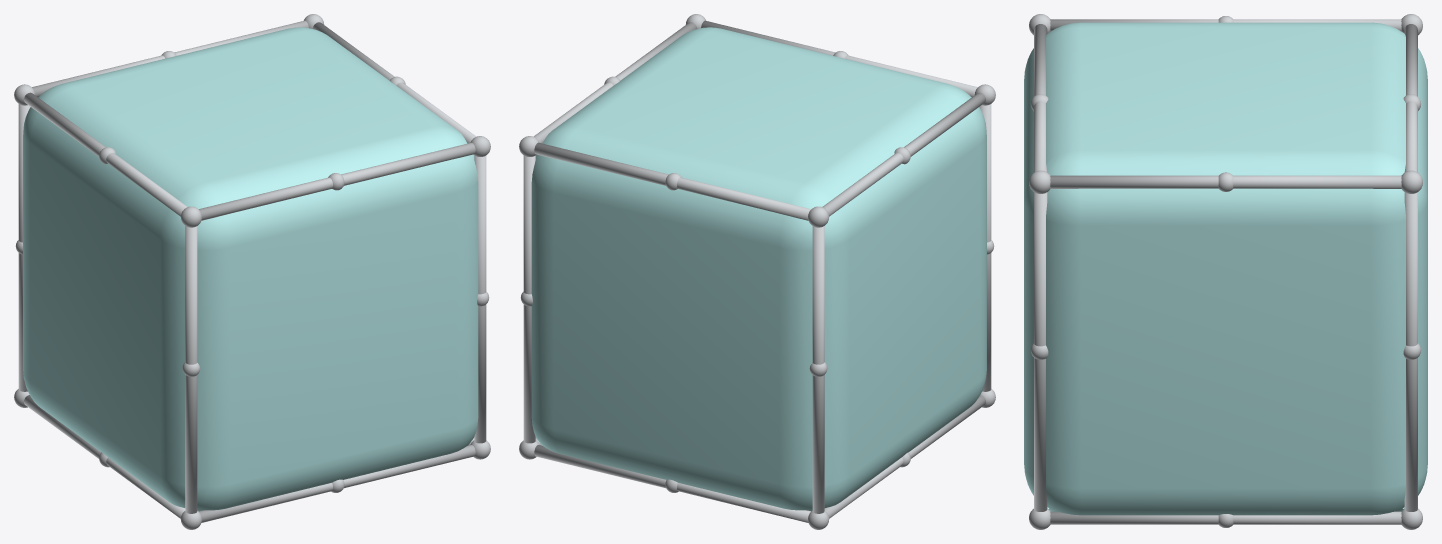
File: hex-core.glb
The picture shows the model from 3 angles, left to right: view 1: azimuth 30°, elevation 25°; view 2: azimuth 150°, elevation 25°; view 3: azimuth 270°, elevation 25°; orthographic projection. The views are drawn at different scales.
Parts seen in each view (by area): view 1: Shell, Rim; view 2: Shell, Rim; view 3: Shell, Rim.
Part boxes in pixels (left/top/right/bottom): Shell: left=23, top=27, right=478, bottom=511; Rim: left=14, top=14, right=490, bottom=529; Shell: left=531, top=27, right=986, bottom=511; Rim: left=519, top=14, right=995, bottom=529; Shell: left=1024, top=22, right=1427, bottom=515; Rim: left=1029, top=14, right=1422, bottom=529.
Size of the model in its own units: 1.7 by 1.7 by 1.7.
Materials: 5 (5 with a texture image).
